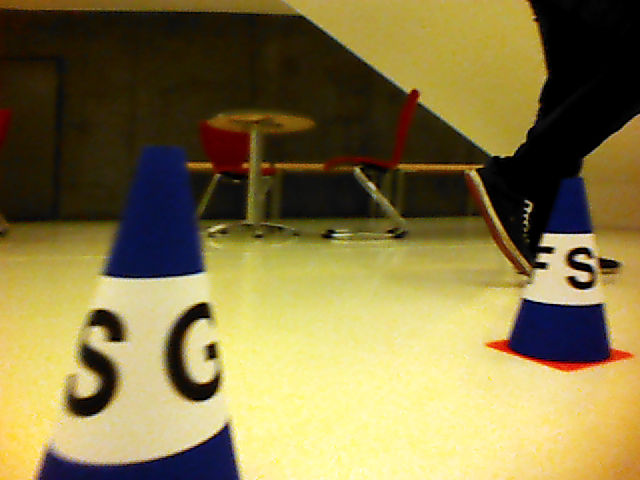bluecone: (511, 173, 617, 364)
